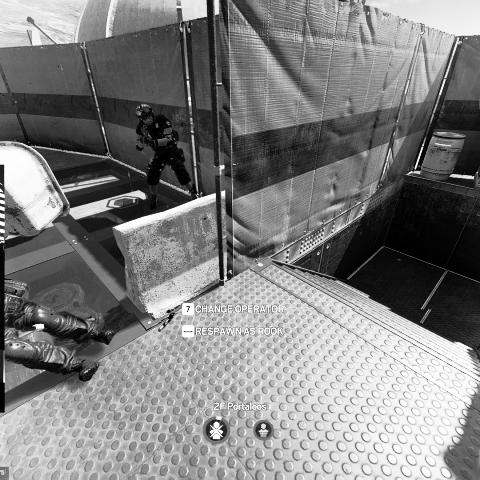Character: (0, 273, 117, 382), (133, 102, 201, 211)
Head: (135, 103, 155, 126)
